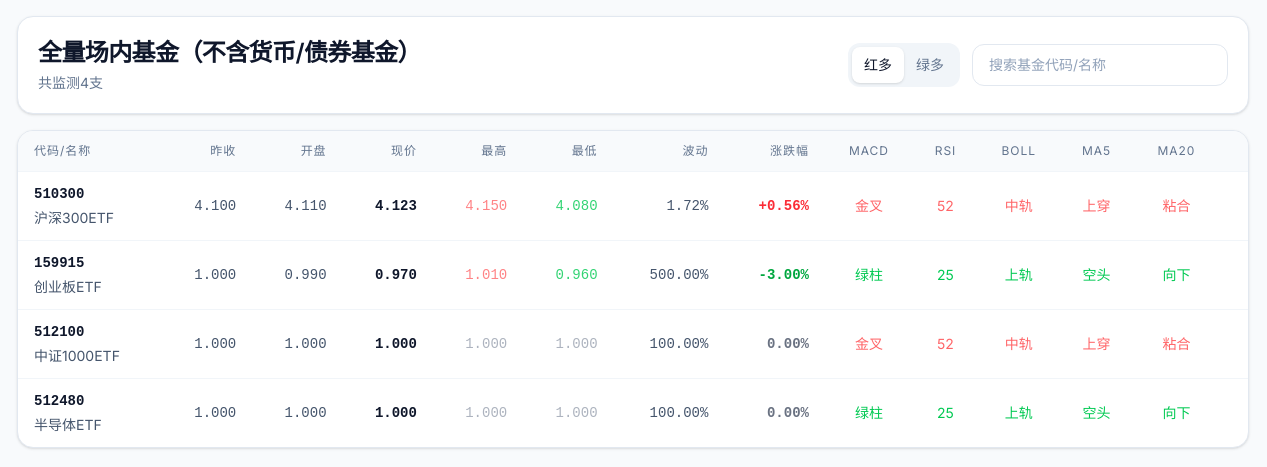
Test: FundList › 搜索无结果时显示空状态文案
The image size is (1267, 467).
Type "不存在的关键词" into the field with test id "fund-search" at (1100,65), box [972,44,1228,86]
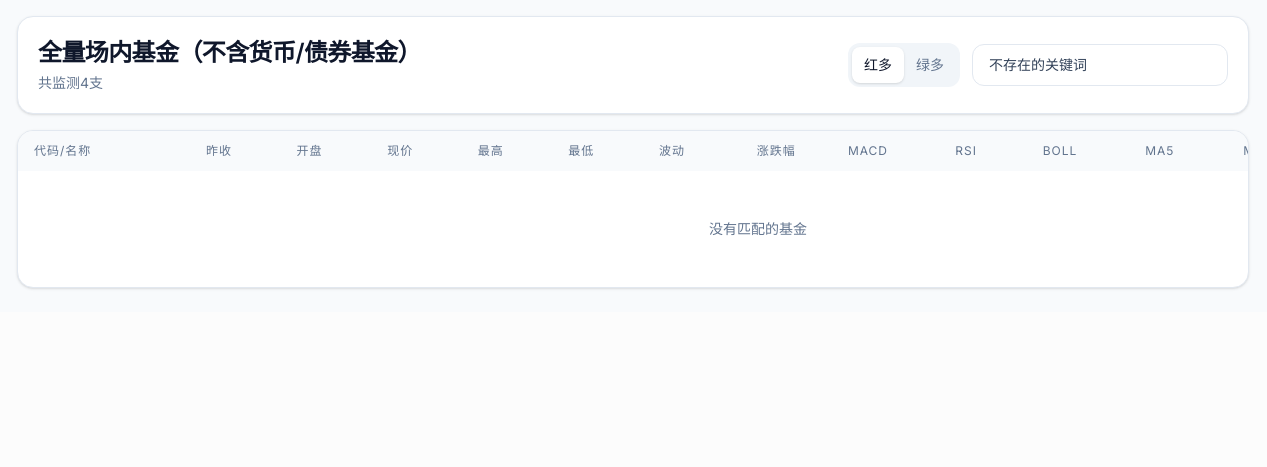
Now the cell with test id "fund-empty" reads "没有匹配的基金", box [709,220,807,237]
